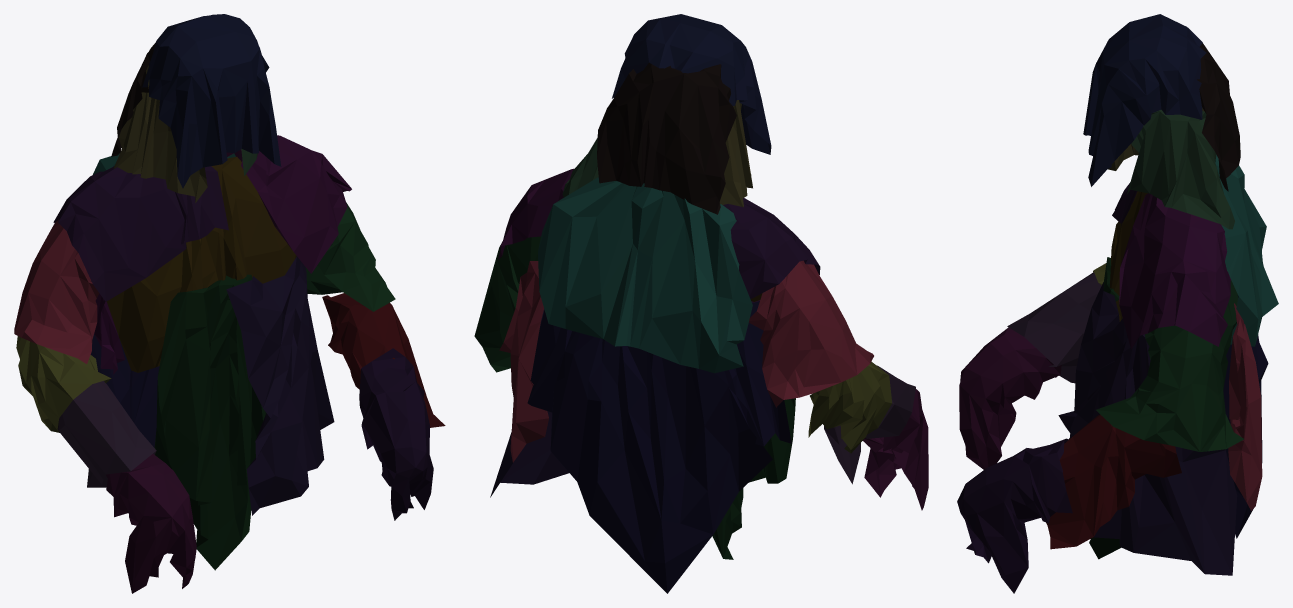
The model's file is 66enemy.fbx.
3 views of the same model, side by side, from view 1: azimuth 30°, elevation 25°; view 2: azimuth 150°, elevation 25°; view 3: azimuth 270°, elevation 25° (orthographic). The views are drawn at different scales.
Visible parts, largest first — view 1: Plane; view 2: Plane; view 3: Plane.
Part boxes in pixels (box(x1,y1,x2,y2)): Plane: box(14, 14, 445, 593); Plane: box(474, 14, 928, 593); Plane: box(957, 14, 1278, 593).
Bounding box in the file's own units: 618 × 838 × 449.
